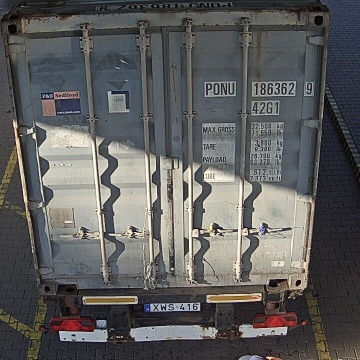serial_id: (205, 81, 313, 95)
